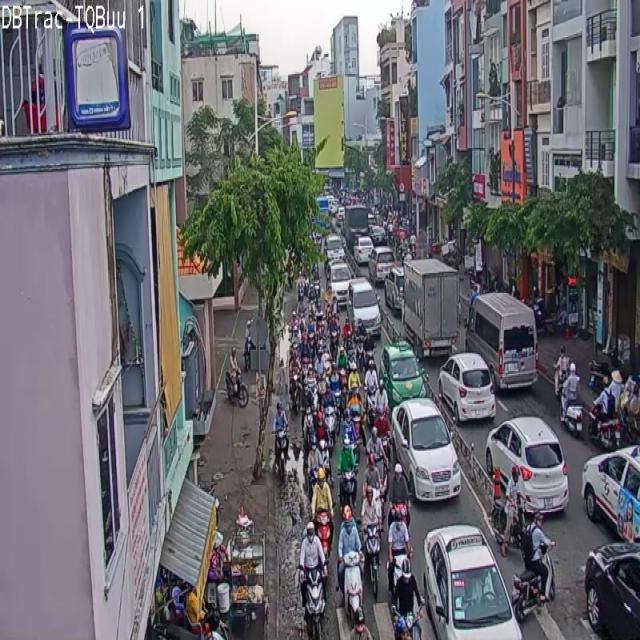car: (298, 522, 326, 639), (338, 505, 363, 630), (525, 513, 554, 602), (388, 509, 411, 603), (362, 489, 381, 597), (338, 439, 357, 502), (313, 466, 333, 519)
traffic-light: (423, 526, 522, 639), (486, 415, 568, 512), (466, 293, 537, 394), (391, 398, 459, 501), (439, 354, 495, 420), (382, 343, 428, 410)
truck: (402, 259, 461, 356)
